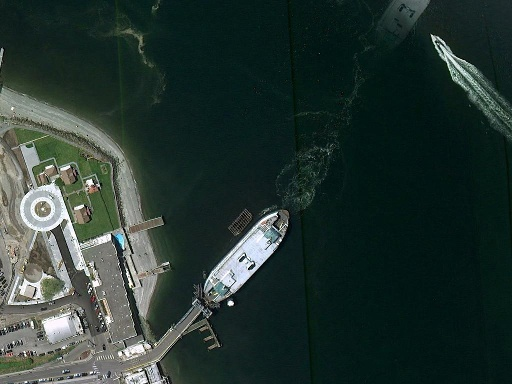ship: (192, 199, 302, 313)
